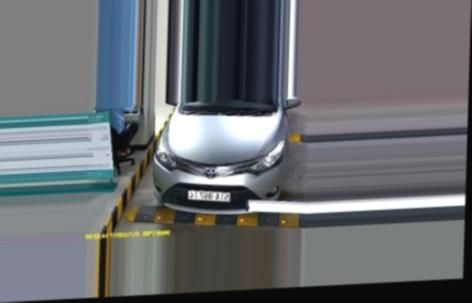License_Plate: (186, 187, 233, 203)
